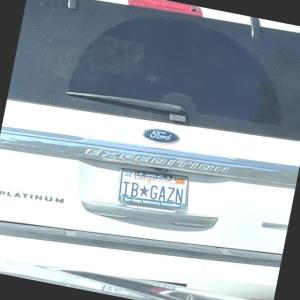Plate: (117, 168, 189, 212)
